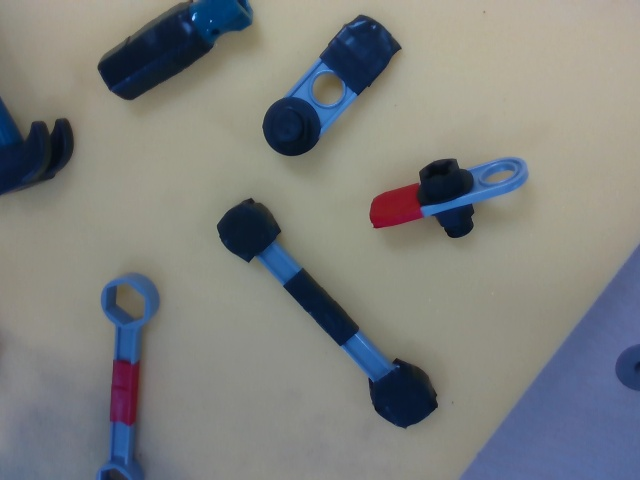part_1_good: (368, 153, 529, 248)
